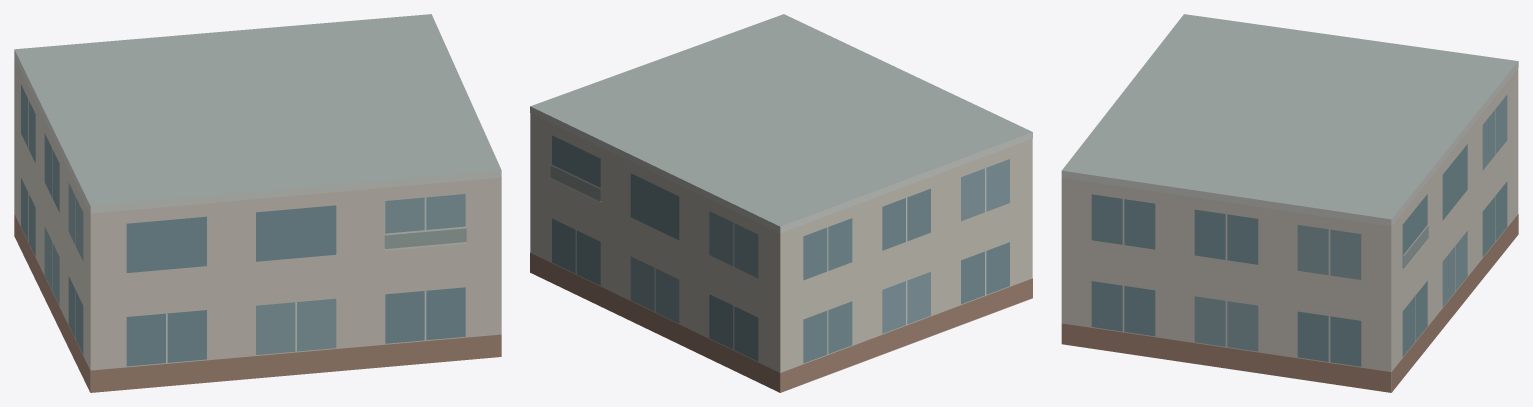
The model's file is survey-upis-32839727.glb.
3 views of the same model, side by side, from view 1: azimuth 30°, elevation 25°; view 2: azimuth 150°, elevation 25°; view 3: azimuth 270°, elevation 25° (orthographic). The views are drawn at different scales.
Visible parts, largest first — view 1: survey-upis-32839727.tmp; view 2: survey-upis-32839727.tmp; view 3: survey-upis-32839727.tmp.
Part boxes in pixels (box(x1,y1,x2,y2)): survey-upis-32839727.tmp: box(14, 14, 501, 392); survey-upis-32839727.tmp: box(530, 14, 1032, 392); survey-upis-32839727.tmp: box(1061, 14, 1518, 392).
Bounding box in the file's own units: 15.49 × 6.1 × 14.56.
